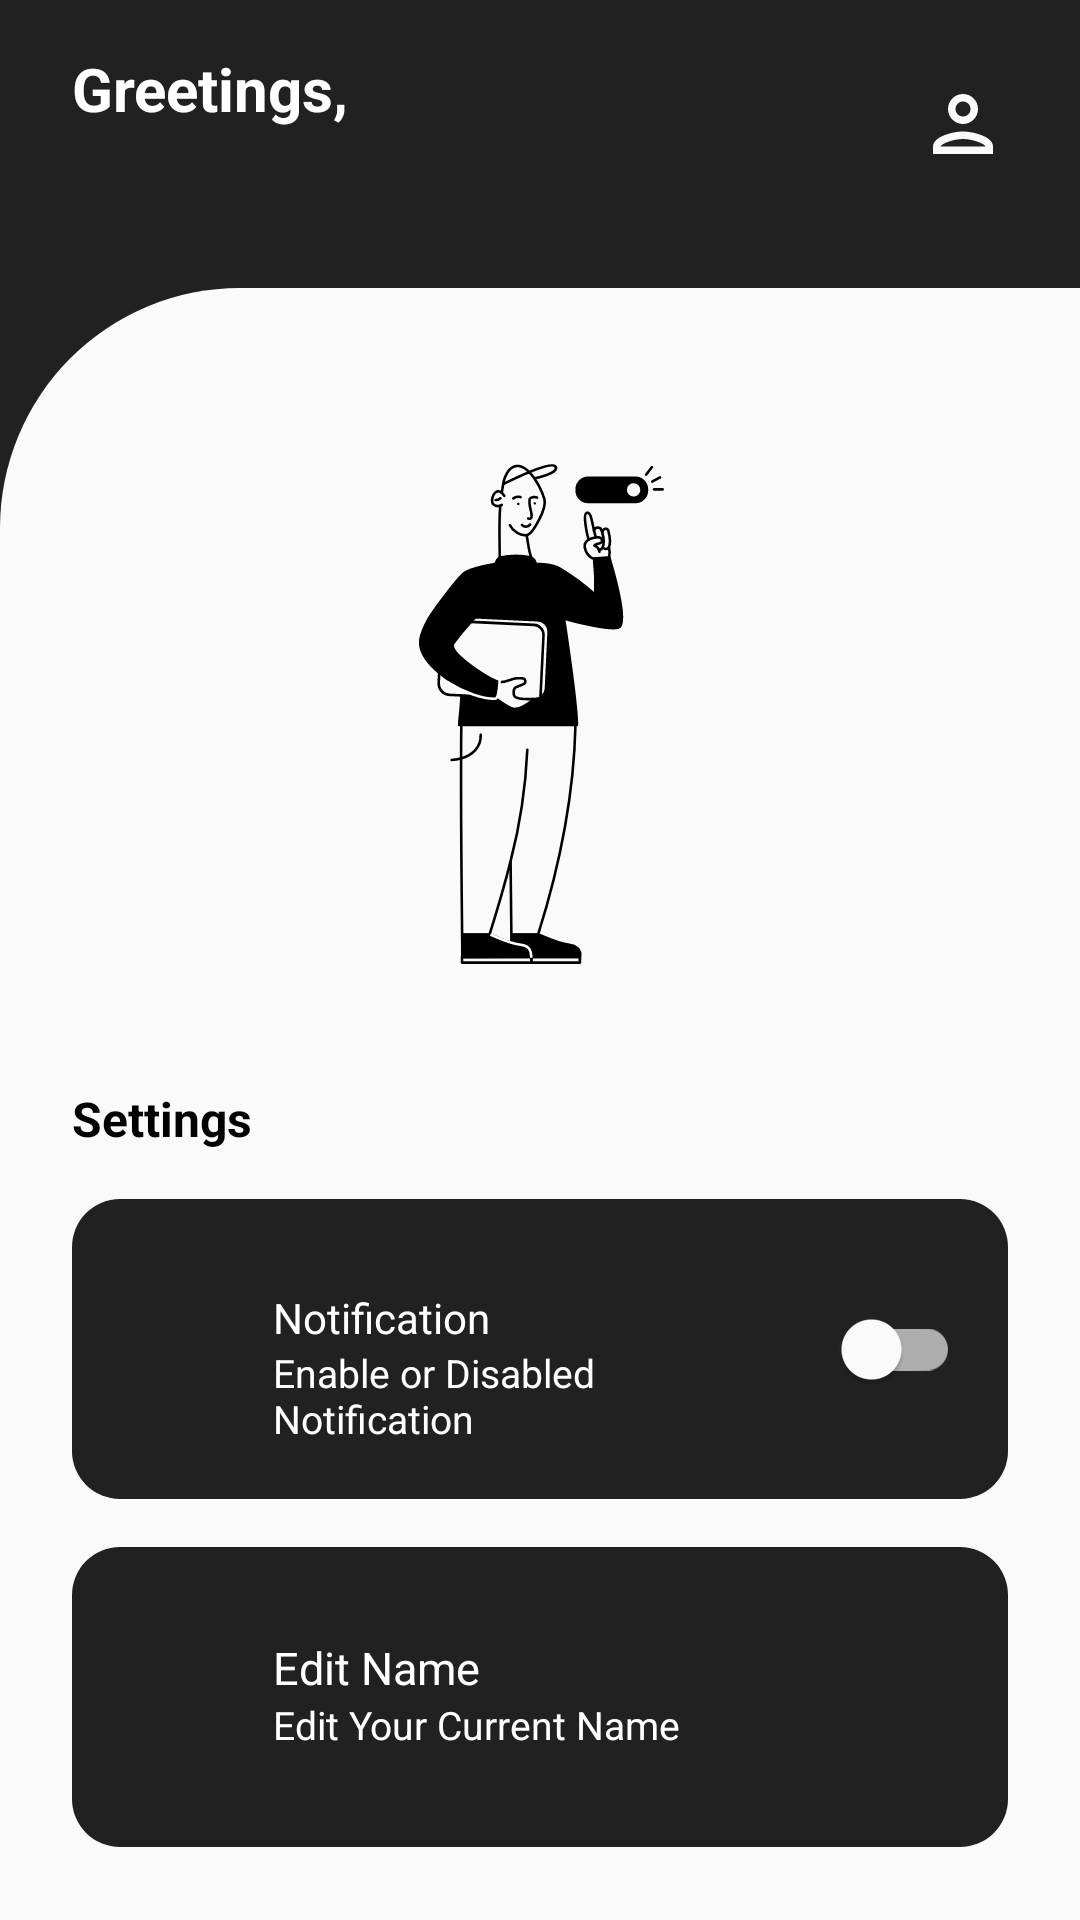

Where icons sit on this 1080x1920 app screen, as {"x1": x1, "y1": y1, "x2": x2, "y2": y2}:
user: {"x1": 933, "y1": 94, "x2": 993, "y2": 154}
